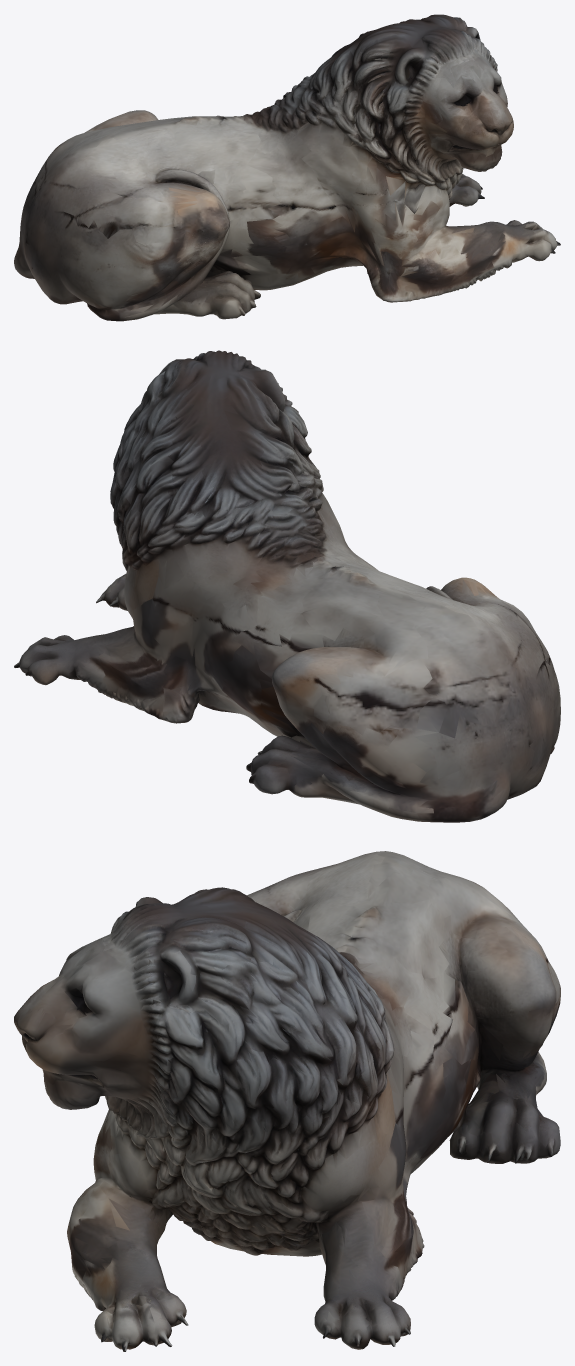
Rendered from knidos_aslani.glb.
3 renders of one model, top to bottom at view 1: azimuth 30°, elevation 25°; view 2: azimuth 150°, elevation 25°; view 3: azimuth 270°, elevation 25°, orthographic. The views are drawn at different scales.
Parts seen in each view (by area): view 1: Meshy_AI_knidos_aslanı_0225172323_texture; view 2: Meshy_AI_knidos_aslanı_0225172323_texture; view 3: Meshy_AI_knidos_aslanı_0225172323_texture.
Boxes of the visible parts, box(x1,y1,x2,y2) form: Meshy_AI_knidos_aslanı_0225172323_texture: box(14, 14, 560, 321); Meshy_AI_knidos_aslanı_0225172323_texture: box(14, 350, 560, 822); Meshy_AI_knidos_aslanı_0225172323_texture: box(14, 851, 560, 1351).
Bounding box in the file's own units: 2 × 1.02 × 1.37.
Materials: 1 (1 with a texture image).
